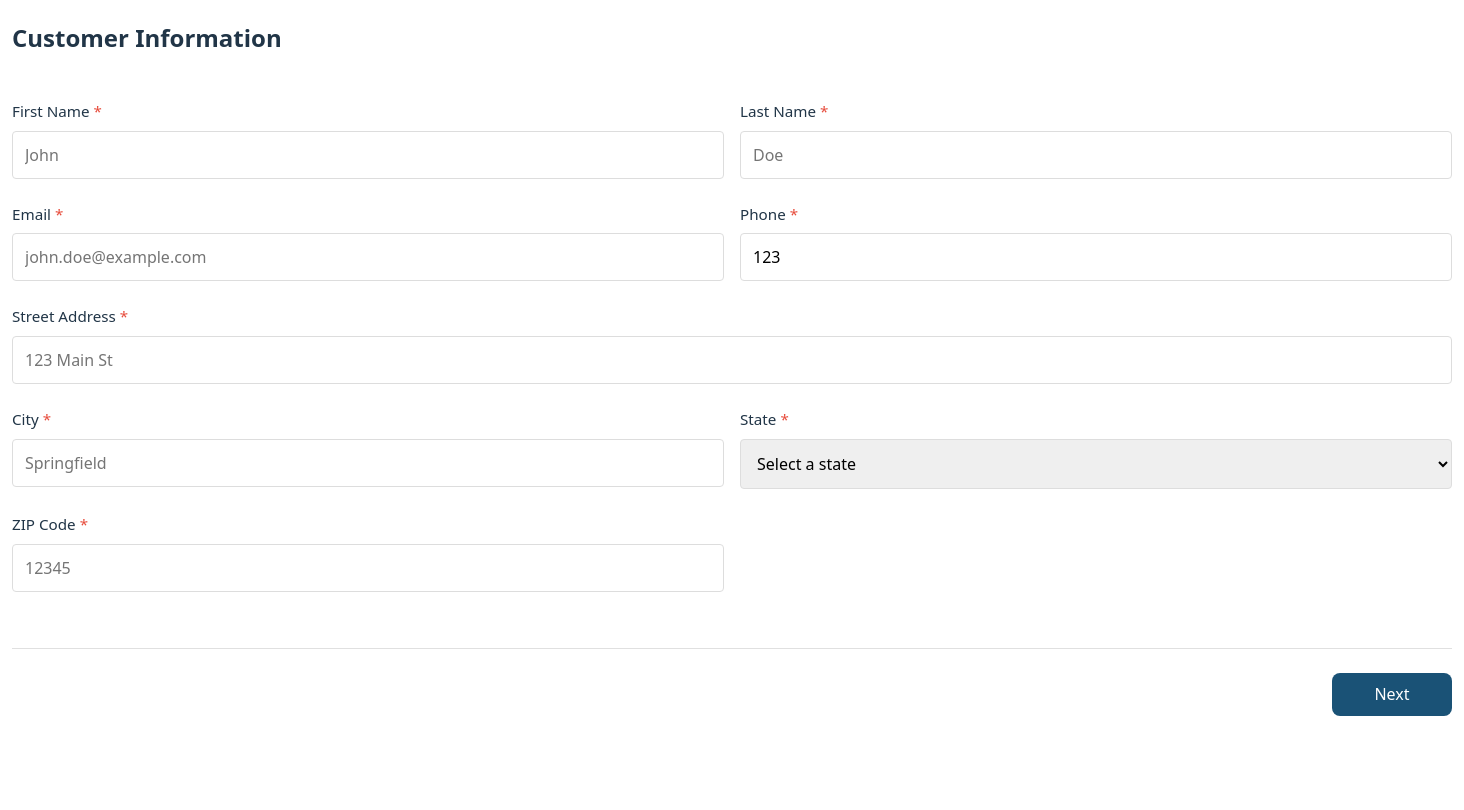
Test: CustomerInfo › shows phone validation error for invalid phone
The width and height of the screenshot is (1464, 810).
What coordinates should you click on to do the following:
click the button "Next"
I would click on:
 (1392, 694)
Its box is [1332, 673, 1452, 716].
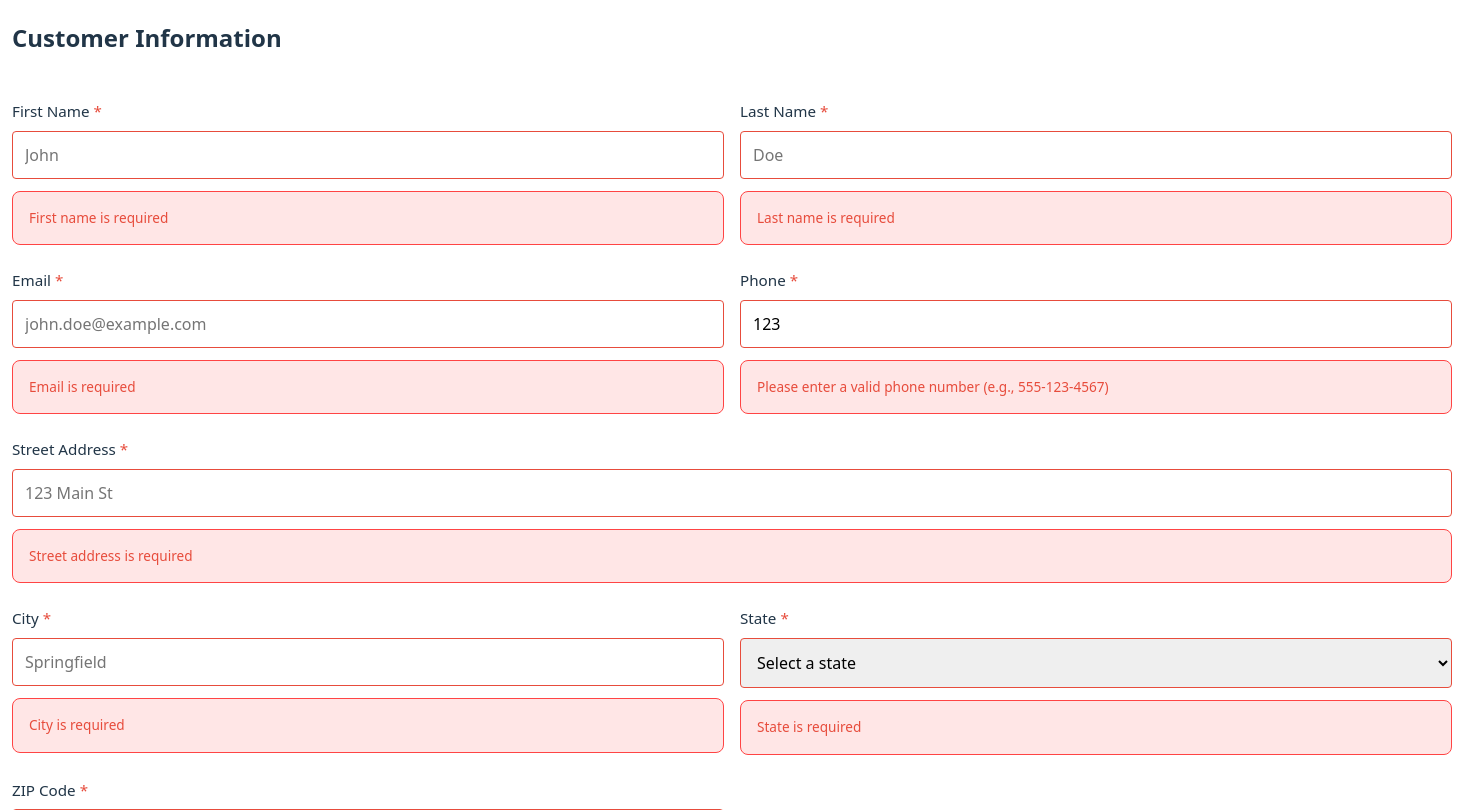
Now the text "Please enter a valid phone number (e.g., 555-123-4567)" is shown, box [740, 360, 1452, 414]
